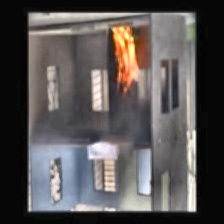fire: (112, 25, 144, 95)
